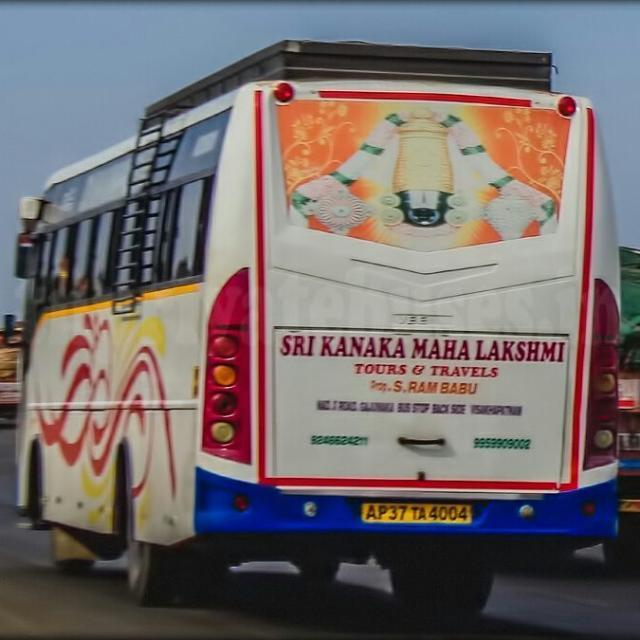Bus: (11, 39, 618, 616)
